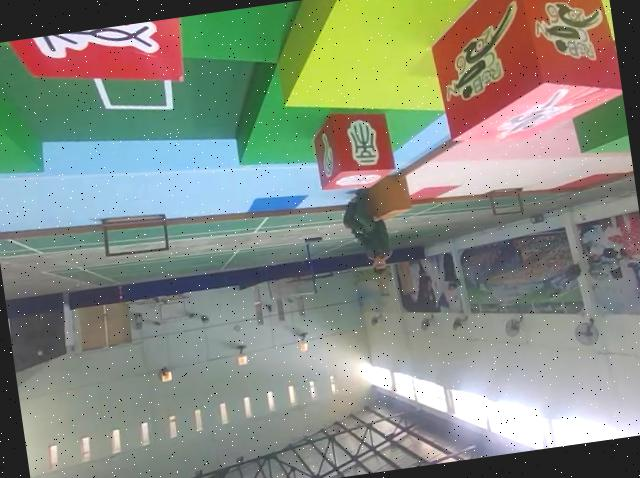R1: (419, 0, 627, 155)
R2 Fake: (309, 105, 397, 196)
R2 Real: (8, 17, 193, 105)
